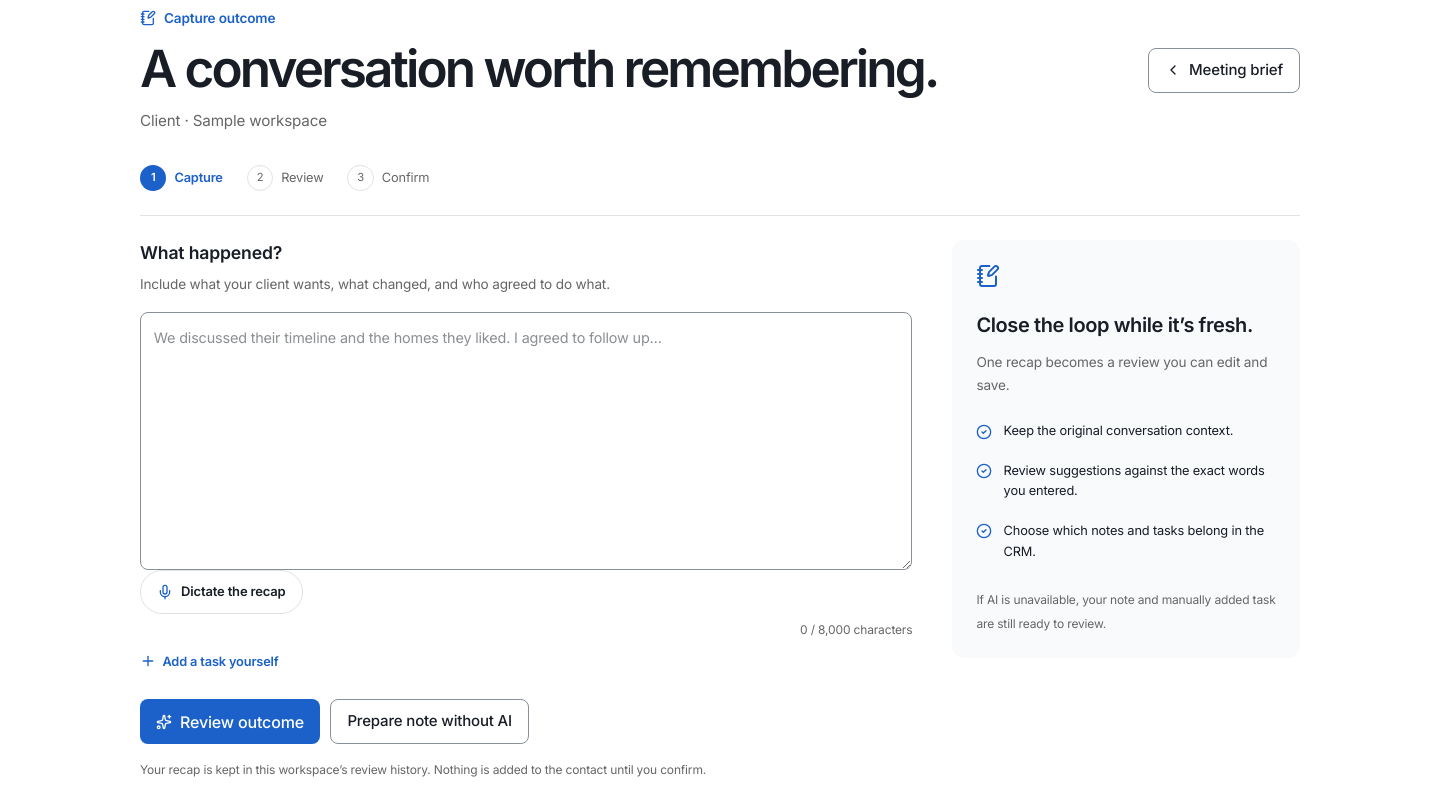
Scenario: Capture outcome review › prepares a model-free recap without confirming or mutating the contact
Replace the text in the text box labelled "What happened?" with "Client is not ready to list." at (526, 441), box [140,312,912,570]
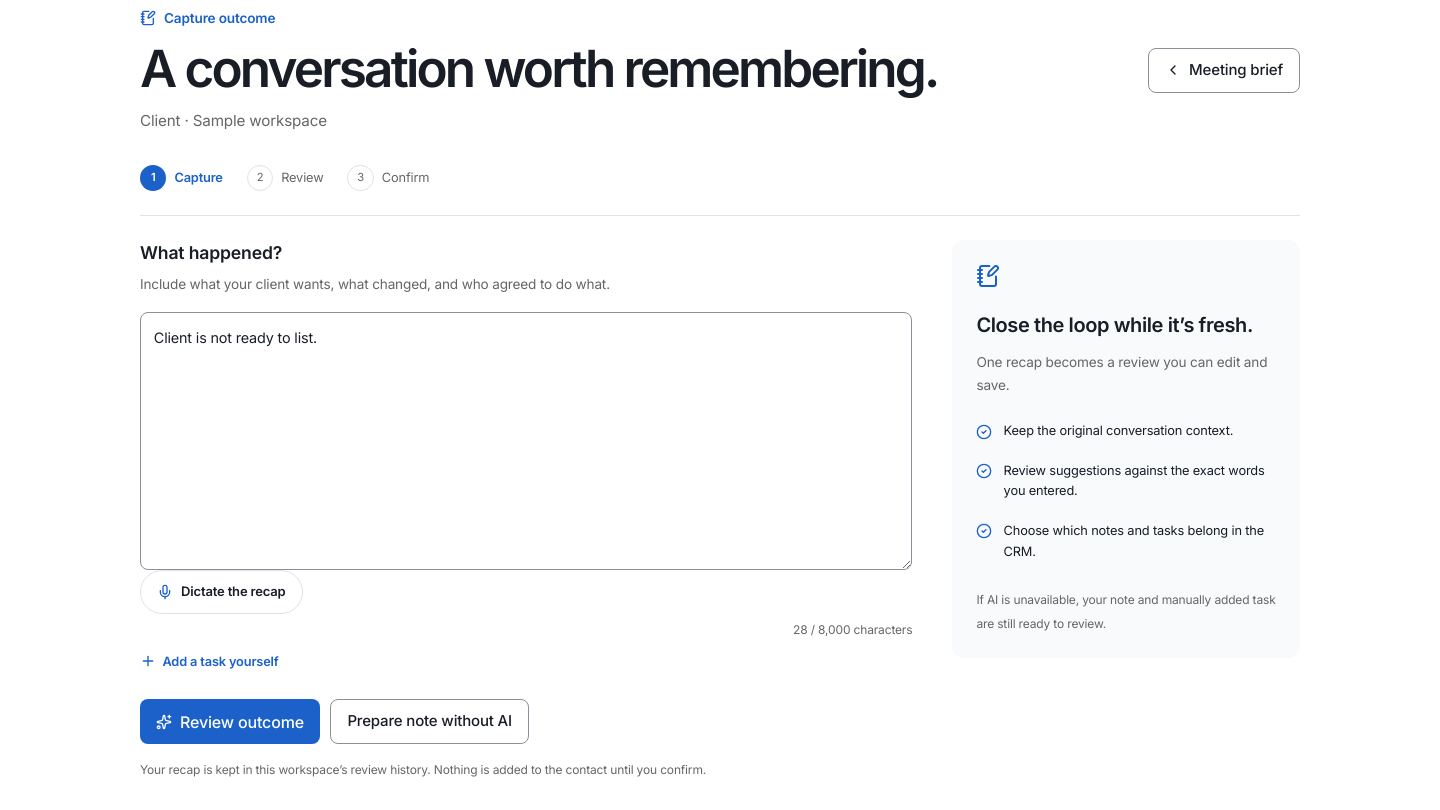
Click the button "Prepare note without AI" at (430, 722), box [330,699,529,744]
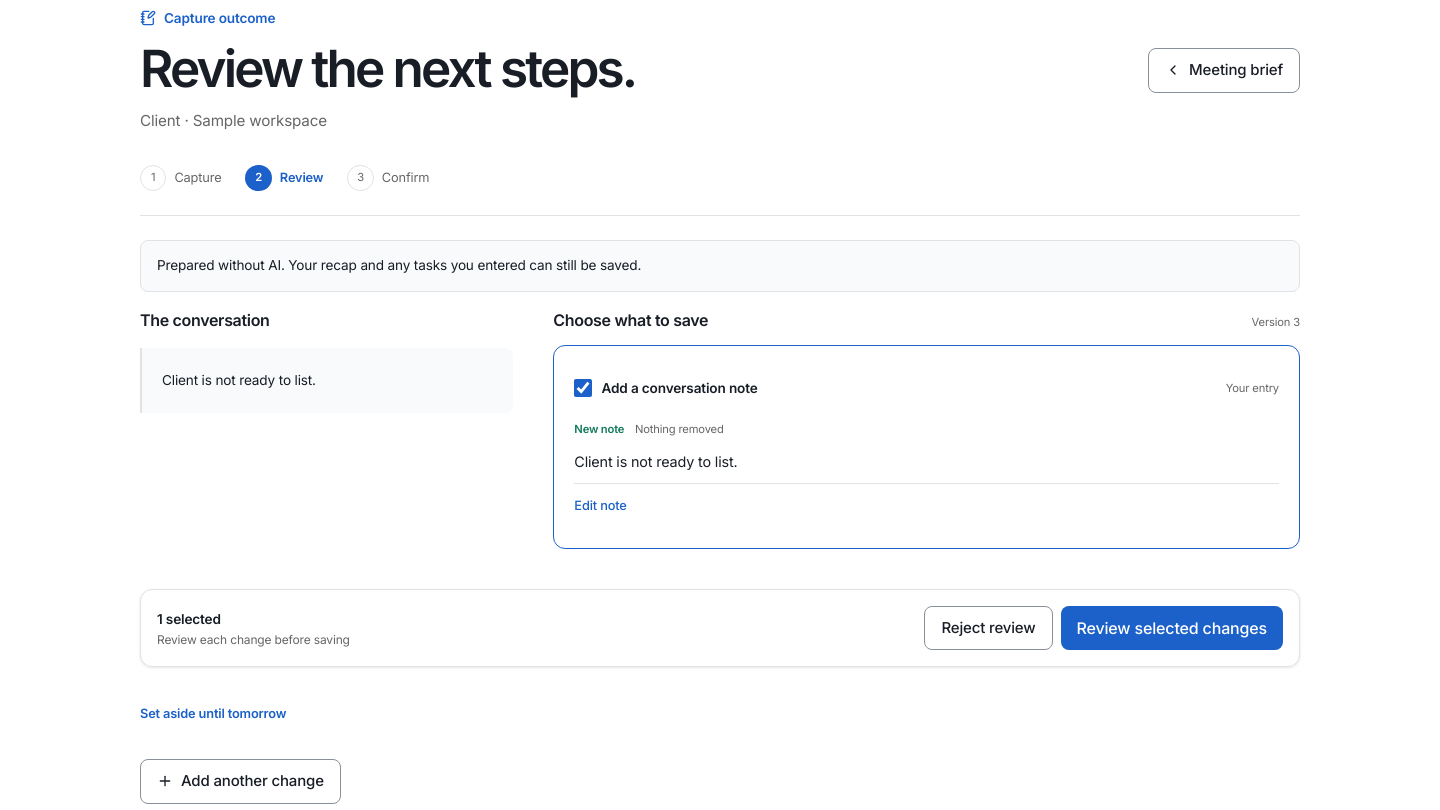
Expected: the heading "Review the next steps." is shown, [140,40,635,97]
